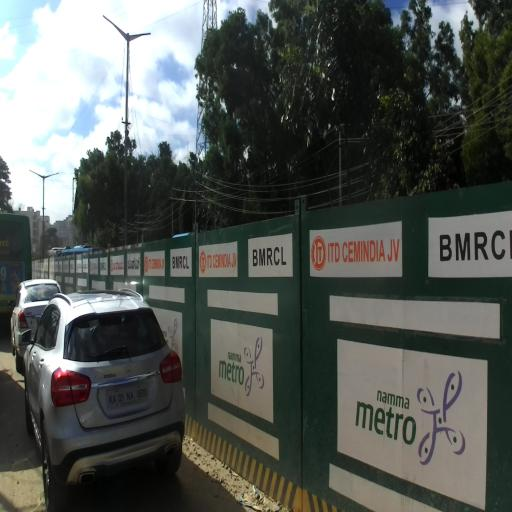street_light_0: (102, 15, 130, 43), (126, 33, 151, 44), (29, 169, 45, 180), (42, 173, 58, 180)
